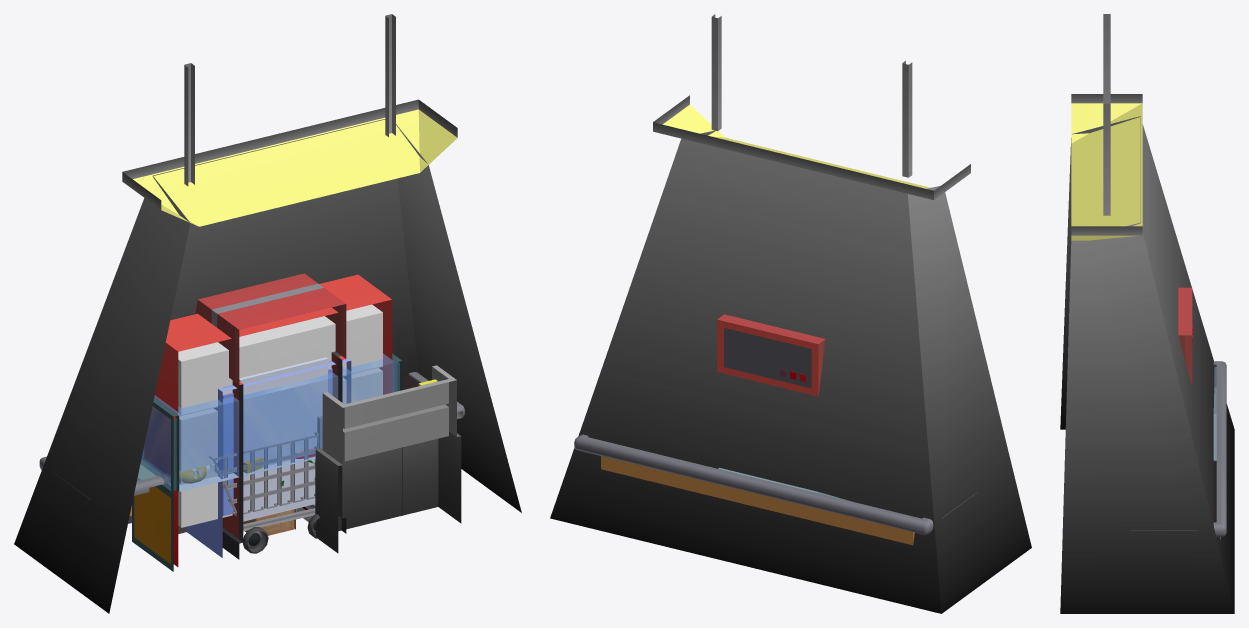
Rendered from market_props.glb.
3 views of the same model, side by side, from view 1: azimuth 30°, elevation 25°; view 2: azimuth 150°, elevation 25°; view 3: azimuth 270°, elevation 25° (orthographic). The views are drawn at different scales.
Parts seen in each view (by area): view 1: lamp, big_fridge, cash_register, showcase_meat, fridge, showcase_cheese, cart, stillage1; view 2: lamp, cash_register, fridge; view 3: lamp, cash_register, fridge.
Part boxes in pixels (x1=…): lamp: x1=14, y1=14, x2=521, y2=613; big_fridge: x1=144, y1=274, x2=392, y2=566; cash_register: x1=39, y1=365, x2=464, y2=553; showcase_meat: x1=132, y1=354, x2=399, y2=571; fridge: x1=195, y1=273, x2=346, y2=559; showcase_cheese: x1=141, y1=353, x2=402, y2=515; cart: x1=209, y1=416, x2=322, y2=553; stillage1: x1=187, y1=357, x2=351, y2=557; lamp: x1=550, y1=14, x2=1031, y2=613; cash_register: x1=574, y1=434, x2=976, y2=545; fridge: x1=717, y1=314, x2=825, y2=396; lamp: x1=1060, y1=14, x2=1234, y2=613; cash_register: x1=1130, y1=361, x2=1226, y2=539; fridge: x1=1178, y1=287, x2=1192, y2=385.
Size of the model in its own units: 0.0563 by 0.0657 by 0.0225.
Materials: 3 (3 with a texture image).
